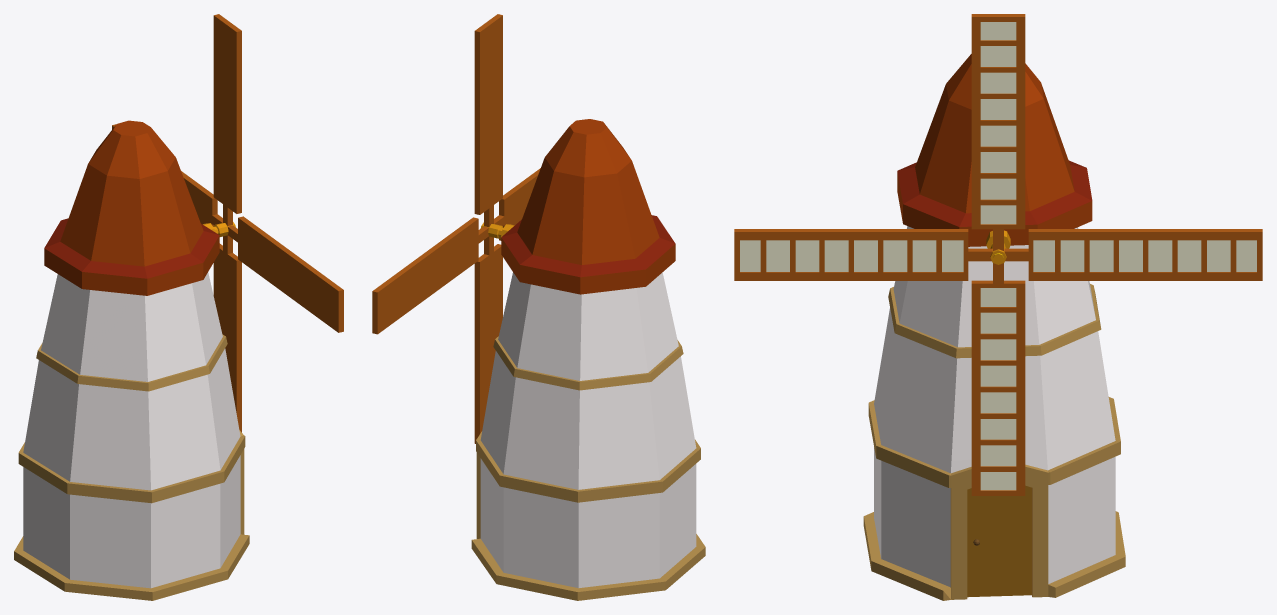
File: windmill.fbx
The picture shows the model from 3 angles, left to right: view 1: azimuth 30°, elevation 25°; view 2: azimuth 150°, elevation 25°; view 3: azimuth 270°, elevation 25°; orthographic projection. The views are drawn at different scales.
Parts seen in each view (by area): view 1: windmill, pallet_mesh; view 2: windmill, pallet_mesh; view 3: windmill, pallet_mesh.
Part boxes in pixels (x1,y1,x2,y2): windmill: (14,120,249,600); pallet_mesh: (112,14,343,432); windmill: (471,119,705,600); pallet_mesh: (372,14,540,443); windmill: (863,54,1125,600); pallet_mesh: (734,14,1262,495).
Size of the model in its own units: 1661 by 3975 by 3245.
